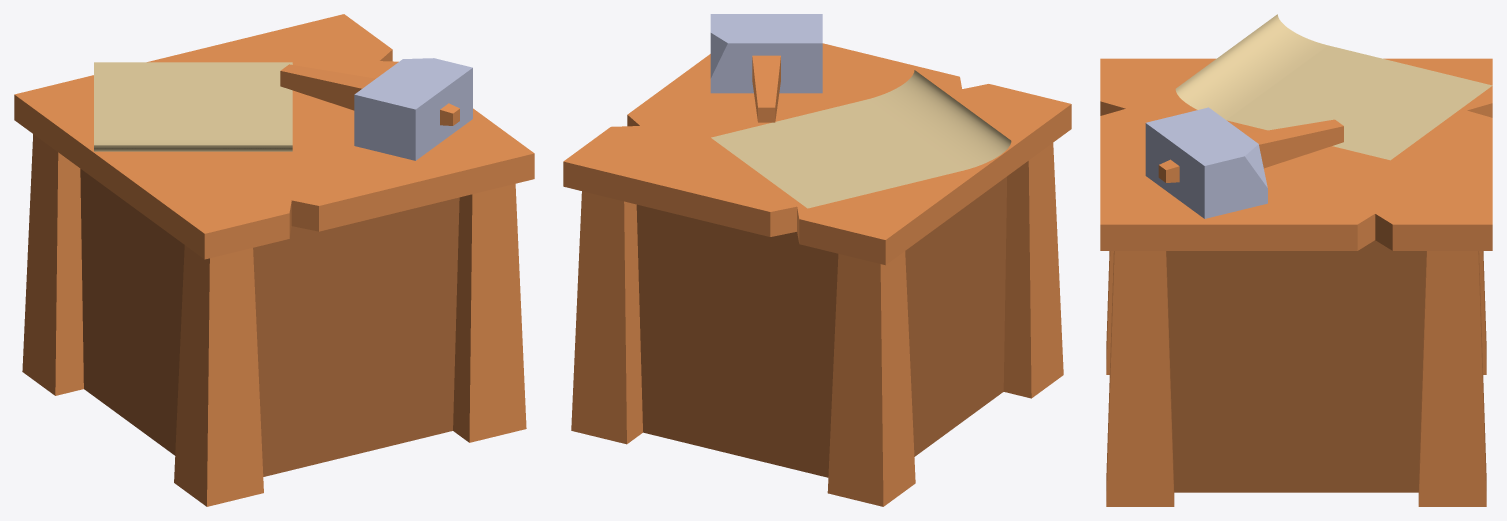
Rendered from workbench.dae.
3 views of the same model, side by side, from view 1: azimuth 30°, elevation 25°; view 2: azimuth 150°, elevation 25°; view 3: azimuth 270°, elevation 25° (orthographic). The views are drawn at different scales.
Visible parts, largest first — view 1: workbench, paper, hammer; view 2: workbench, paper, hammer; view 3: workbench, paper, hammer.
Part boxes in pixels (x1,y1,x2,y2): workbench: (14,14,534,506); paper: (94,62,292,151); hammer: (280,58,472,160); workbench: (563,43,1071,506); paper: (711,70,1011,208); hammer: (710,14,822,122); workbench: (1100,58,1492,506); paper: (1175,14,1492,160); hammer: (1145,107,1343,218).
Size of the model in its own units: 0.2888 by 0.2553 by 0.2688.
